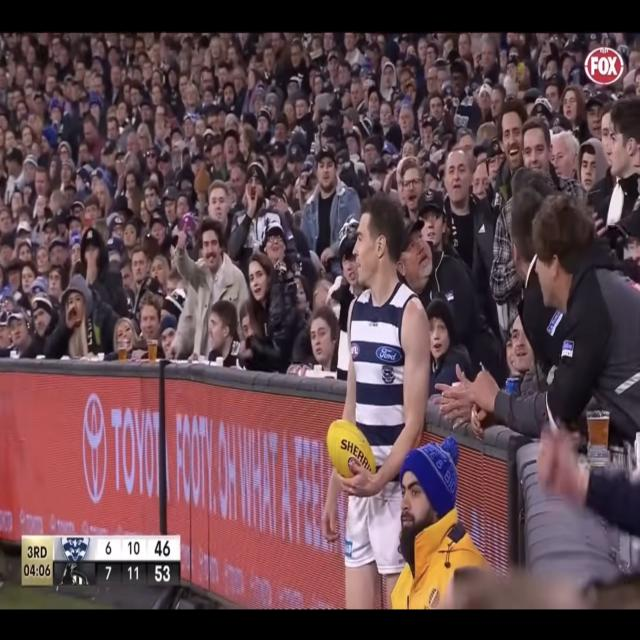crowd: (0, 33, 640, 509)
